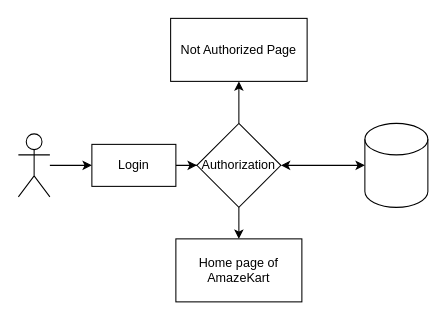
This 446x320 diagram has some shape labels left out. Here are the shapes that lost their labels. From the top down, the centre of each, then its label:
At point (33, 165): "User".
At point (396, 164): "Identity".
